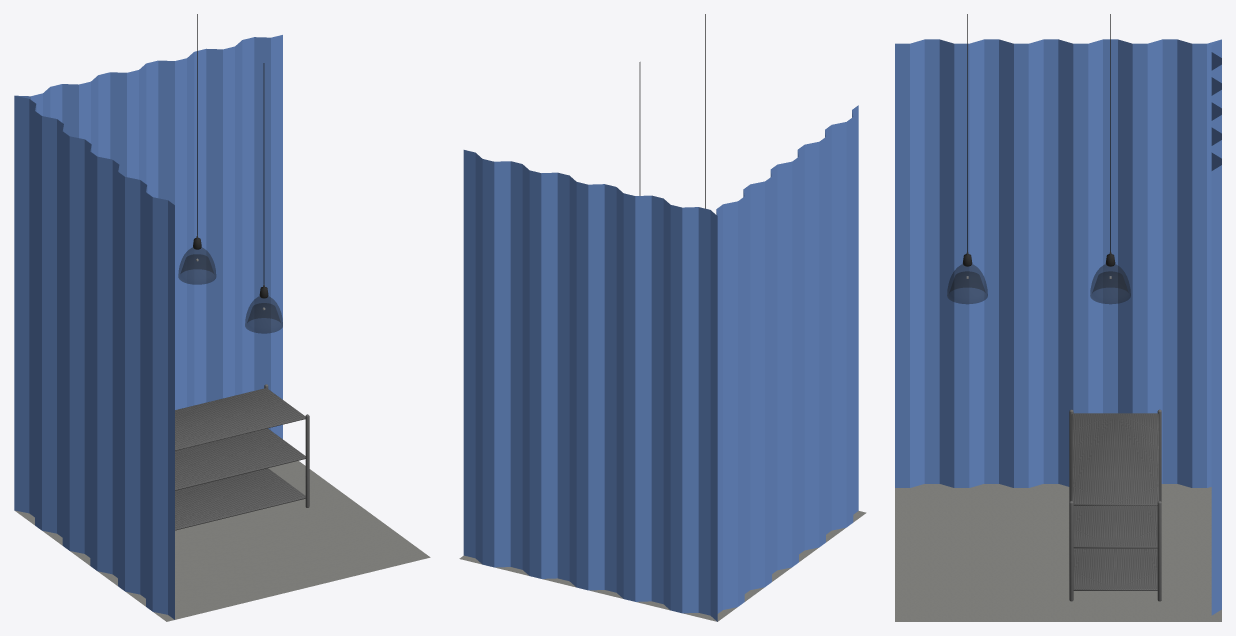
File: Warehouse.glb
3 renders of one model, left to right at view 1: azimuth 30°, elevation 25°; view 2: azimuth 150°, elevation 25°; view 3: azimuth 270°, elevation 25°, orthographic. The views are drawn at different scales.
Visible parts, largest first — view 1: Plane.002, Plane.001, Cube, Sphere; view 2: Plane.002, Plane.001; view 3: Plane.002, Plane.001, Cube, Sphere, Cube.001.
Part boxes in pixels (<box>): Plane.002: <box>14,35,282,619</box>; Plane.001: <box>14,460,430,621</box>; Cube: <box>175,388,305,530</box>; Sphere: <box>178,14,282,333</box>; Plane.002: <box>463,105,858,621</box>; Plane.001: <box>459,511,866,621</box>; Plane.002: <box>895,39,1221,615</box>; Plane.001: <box>895,484,1221,621</box>; Cube: <box>1071,413,1159,590</box>; Sphere: <box>947,14,1130,303</box>; Cube.001: <box>1069,409,1161,601</box>.
Bounding box in the file's own units: 16 × 29.11 × 16.
Materials: 7 (2 with a texture image).
